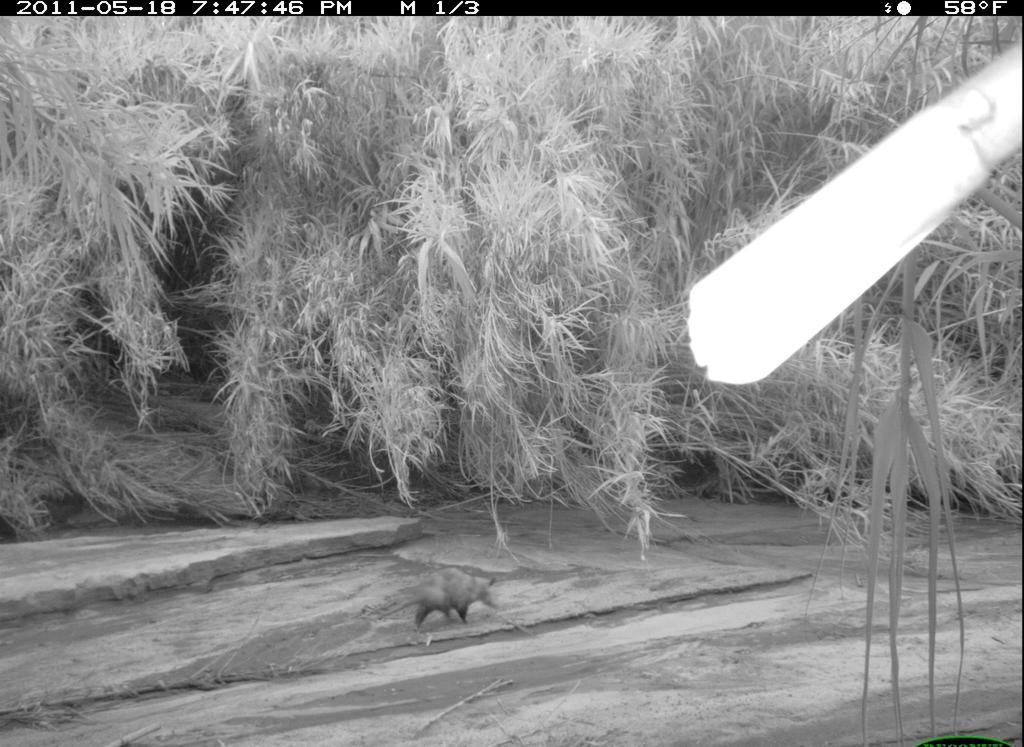opossum: (377, 562, 518, 649)
